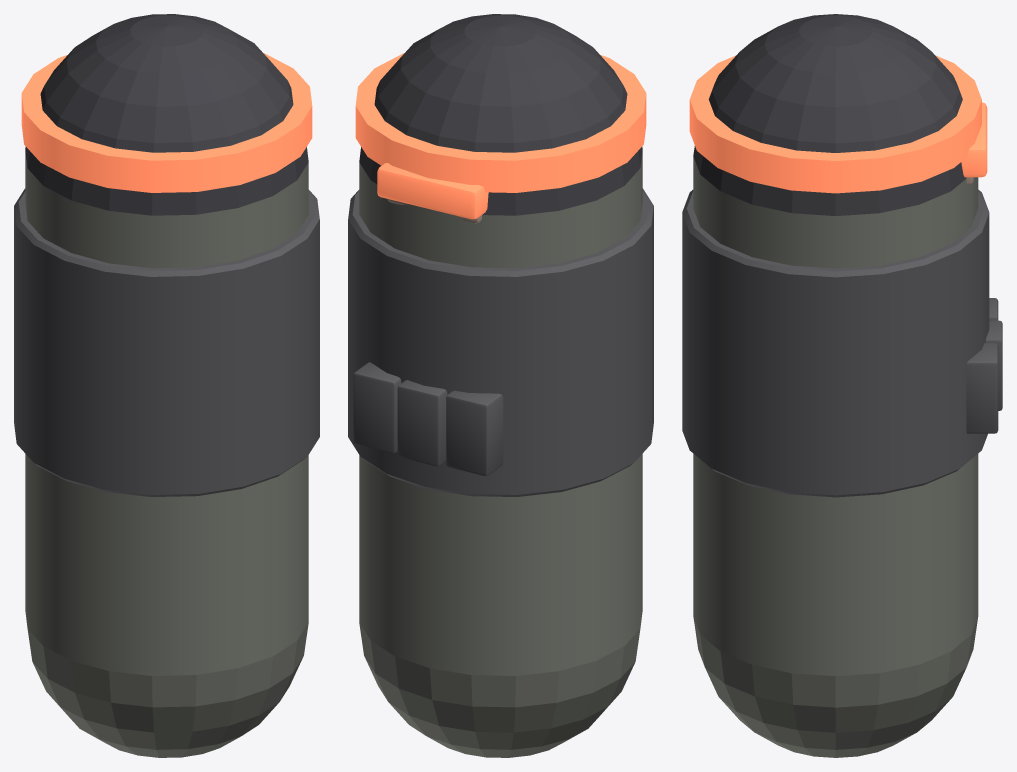
The model's file is terrorist_pill.glb.
The picture shows the model from 3 angles, left to right: view 1: azimuth 30°, elevation 25°; view 2: azimuth 150°, elevation 25°; view 3: azimuth 270°, elevation 25°; orthographic projection.
Visible parts, largest first — view 1: TerroristPill_Body; view 2: TerroristPill_Body; view 3: TerroristPill_Body.
Boxes of the visible parts, <box> form: TerroristPill_Body: <box>14,14,319,757</box>; TerroristPill_Body: <box>348,14,653,757</box>; TerroristPill_Body: <box>682,14,1002,757</box>.
Size of the model in its own units: 0.69 by 1.78 by 0.72.
